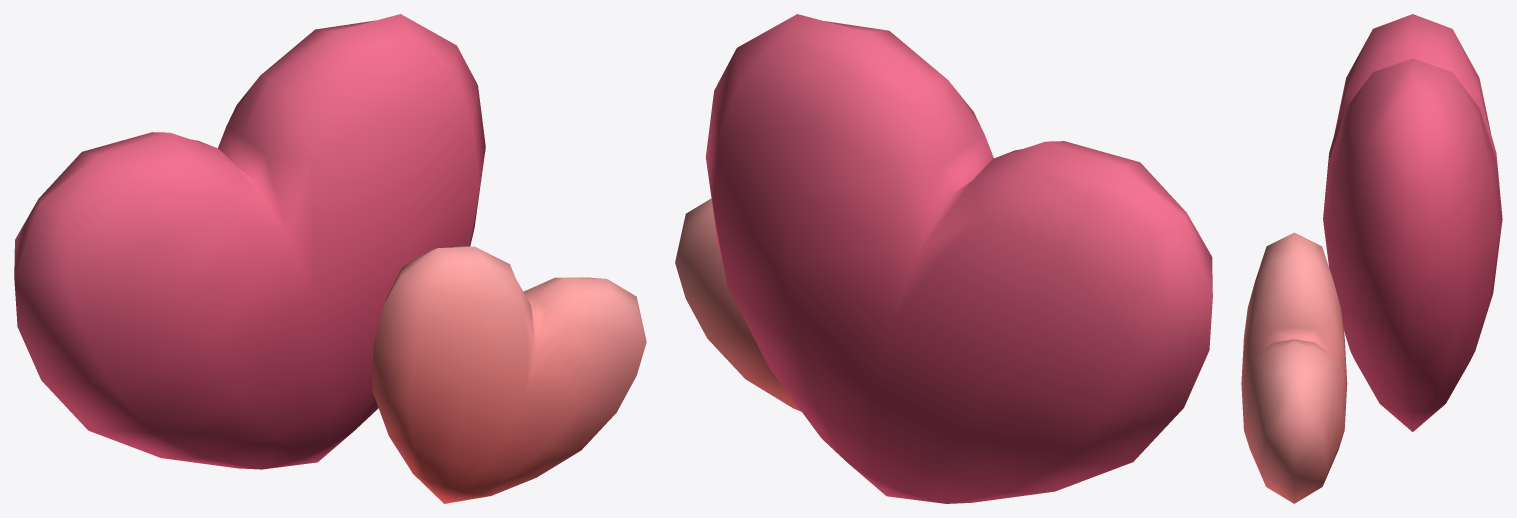
File: CRvalentines_heart_001.FBX
3 views of the same model, side by side, from view 1: azimuth 30°, elevation 25°; view 2: azimuth 150°, elevation 25°; view 3: azimuth 270°, elevation 25° (orthographic). The views are drawn at different scales.
Parts seen in each view (by area): view 1: valentines_heart_001; view 2: valentines_heart_001; view 3: valentines_heart_001.
Part boxes in pixels (left/top/right/bottom): valentines_heart_001: left=14, top=14, right=646, bottom=503; valentines_heart_001: left=675, top=14, right=1212, bottom=503; valentines_heart_001: left=1241, top=14, right=1502, bottom=503.
Bounding box in the file's own units: 59.71 × 44.09 × 26.69.
Materials: 1 (1 with a texture image).
